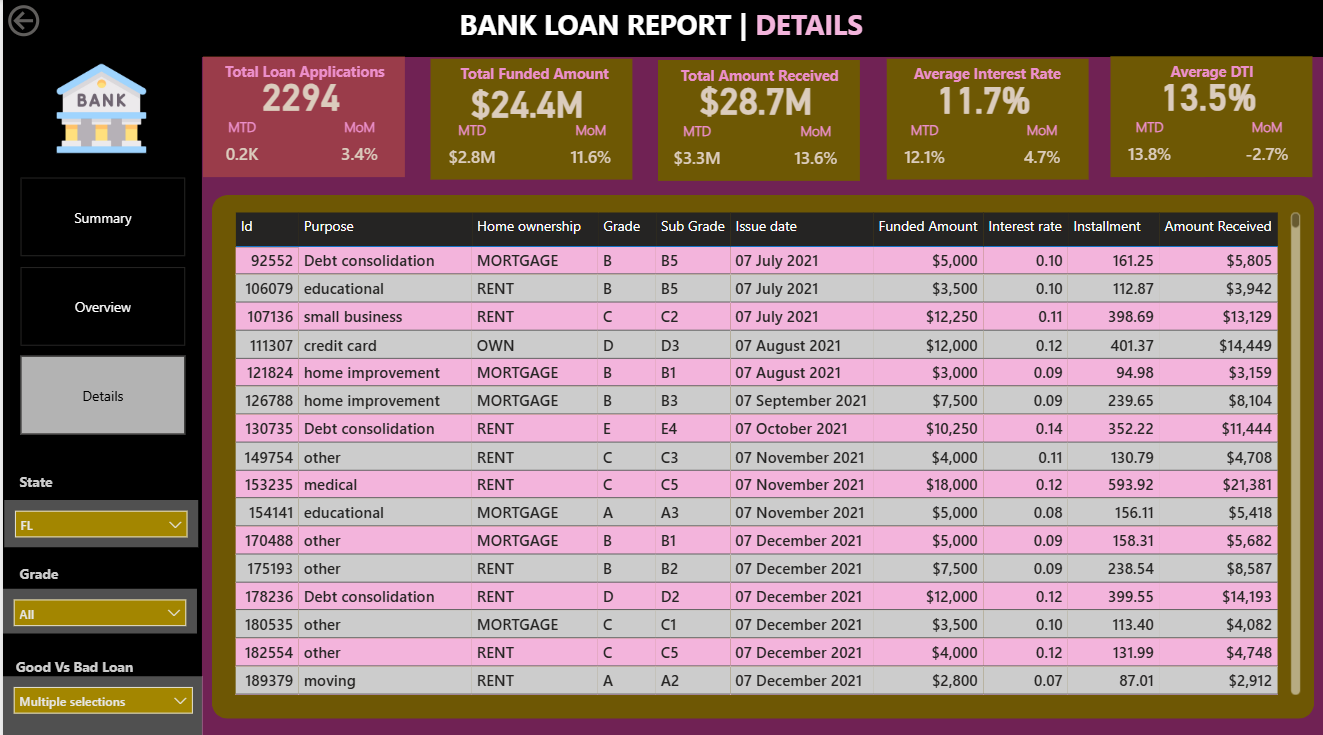

The page's visual inventory and layout, read from the dashboard file:
{"tool":"powerbi","page":{"name":"Details","canvas":[1280,720],"ordinal":2},"visuals":[{"type":"shape","box":[193.5,54.9,194.9,116.6],"z":0,"group":"g1"},{"type":"shape","box":[1069,54.9,194.9,116.6],"z":0,"group":"g5"},{"type":"shape","box":[412.5,56.3,194.9,116.6],"z":0,"group":"g2"},{"type":"shape","box":[852.9,56.3,194.9,116.6],"z":0,"group":"g3"},{"type":"shape","box":[632.6,57.8,194.9,116.6],"z":0,"group":"g4"},{"type":"shape","box":[201.5,188.2,1064.1,505.5],"z":0},{"type":"shape","box":[0,0,1280.3,55],"z":1000},{"type":"card","fields":{"Values":["bank_loan_data.Total Loan Applications"]},"box":[193.5,54.9,189.4,74.1],"z":1000,"group":"g1"},{"type":"card","fields":{"Values":["bank_loan_data.Avg DTI"]},"box":[1069,54.9,189.4,74.1],"z":1000,"group":"g5"},{"type":"card","fields":{"Values":["bank_loan_data.Avg Interest Rate"]},"box":[851.5,56.3,189.4,74.1],"z":1000,"group":"g3"},{"type":"card","fields":{"Values":["bank_loan_data.Total Amount Received"]},"box":[633.2,57.6,189.4,74.1],"z":1000,"group":"g4"},{"type":"card","fields":{"Values":["bank_loan_data.Total Funded Amount"]},"box":[411,60.1,189.4,74.1],"z":1000,"group":"g2"},{"type":"shape","box":[0,54.9,192,665.5],"z":2000},{"type":"textbox","box":[193.5,54.9,196.2,34.3],"z":2000,"group":"g1"},{"type":"textbox","box":[1069,54.9,196.2,34.3],"z":2000,"group":"g5"},{"type":"textbox","box":[415.2,56.3,196.2,34.3],"z":2000,"group":"g2"},{"type":"textbox","box":[851.5,56.3,196.2,34.3],"z":2000,"group":"g3"},{"type":"textbox","box":[633.2,57.6,196.2,34.3],"z":2000,"group":"g4"},{"type":"textbox","box":[435,0,455.6,46.7],"z":3000},{"type":"card","title":"MTD","fields":{"Values":["bank_loan_data.MTD Loan Applications"]},"box":[193.5,113.9,75.5,57.6],"z":3000,"group":"g1"},{"type":"card","title":"MTD","fields":{"Values":["bank_loan_data.MTD Avg DTI"]},"box":[1069,113.9,75.5,57.6],"z":3000,"group":"g5"},{"type":"card","title":"MTD","fields":{"Values":["bank_loan_data.MTD Funded Amount"]},"box":[415.2,115.3,75.5,57.6],"z":3000,"group":"g2"},{"type":"card","title":"MTD","fields":{"Values":["bank_loan_data.MTD Avg Int Rate"]},"box":[851.5,115.3,75.5,57.6],"z":3000,"group":"g3"},{"type":"card","title":"MTD","fields":{"Values":["bank_loan_data.MTD Total Amount Received"]},"box":[633.2,116.6,75.5,57.6],"z":3000,"group":"g4"},{"type":"group","id":"g1","title":"Group 1","box":[193.5,54.9,196.2,116.6],"z":4000},{"type":"card","title":"MoM","fields":{"Values":["bank_loan_data.MoM Loan Applications"]},"box":[307.4,113.9,75.5,57.6],"z":4000,"group":"g1"},{"type":"card","title":"MoM","fields":{"Values":["bank_loan_data.MoM Avg DTI"]},"box":[1182.9,113.9,75.5,57.6],"z":4000,"group":"g5"},{"type":"card","title":"MoM","fields":{"Values":["bank_loan_data.MoM Total Funded Amount"]},"box":[529.1,115.3,75.5,57.6],"z":4000,"group":"g2"},{"type":"card","title":"MoM","fields":{"Values":["bank_loan_data.MoM Avg Int Rate"]},"box":[965.4,115.3,75.5,57.6],"z":4000,"group":"g3"},{"type":"card","title":"MoM","fields":{"Values":["bank_loan_data.MoM Total Amount Received"]},"box":[747.1,116.6,75.5,57.6],"z":4000,"group":"g4"},{"type":"group","id":"g2","title":"Group 1","box":[411,56.3,200.3,116.6],"z":5000},{"type":"group","id":"g3","title":"Group 1","box":[851.5,56.3,196.2,116.6],"z":6000},{"type":"actionButton","box":[0,0,100,40],"z":7000},{"type":"group","id":"g4","title":"Group 1","box":[632.6,57.6,197.6,116.6],"z":8000},{"type":"group","id":"g5","title":"Group 1","box":[1069,54.9,196.2,116.6],"z":9000},{"type":"slicer","fields":{"Values":["bank_loan_data.address_state"]},"box":[1.2,482.6,187,45.8],"z":10000},{"type":"slicer","fields":{"Values":["bank_loan_data.grade"]},"box":[0,568.2,187,43.4],"z":11000},{"type":"slicer","fields":{"Values":["bank_loan_data.Good vs Bad Loan"]},"box":[0,652.7,193,57.9],"z":12000},{"type":"textbox","box":[10.9,451.2,103.8,42.2],"z":13000},{"type":"textbox","box":[7.2,629.8,131.5,45.8],"z":14000},{"type":"textbox","box":[10.9,539.3,207.5,42.2],"z":15000},{"type":"tableEx","fields":{"Values":["bank_loan_data.id","bank_loan_data.purpose","bank_loan_data.home_ownership","bank_loan_data.grade","bank_loan_data.sub_grade","bank_loan_data.issue_date","bank_loan_data.Total Funded Amount","Sum(bank_loan_data.int_rate)","Sum(bank_loan_data.installment)","bank_loan_data.Total Amount Received"]},"box":[218.4,200.3,1038.7,475.3],"z":16000},{"type":"pageNavigator","box":[16.9,171.3,159.3,249.7],"z":17000},{"type":"image","box":[44.6,56.7,100.1,96.5],"z":18000}]}

Visuals, with their boxes in screenshot pixels (x1, y1, x2, y2), scaled from the page's 1280x720 canvas onto the 1323x735 screenshot:
shape: BBox(200, 56, 401, 175)
shape: BBox(1105, 56, 1306, 175)
shape: BBox(426, 57, 628, 177)
shape: BBox(882, 57, 1083, 177)
shape: BBox(654, 59, 855, 178)
shape: BBox(208, 192, 1308, 708)
shape: BBox(0, 0, 1322, 56)
card - bank_loan_data.Total Loan Applications: BBox(200, 56, 396, 132)
card - bank_loan_data.Avg DTI: BBox(1105, 56, 1301, 132)
card - bank_loan_data.Avg Interest Rate: BBox(880, 57, 1076, 133)
card - bank_loan_data.Total Amount Received: BBox(654, 59, 850, 134)
card - bank_loan_data.Total Funded Amount: BBox(425, 61, 621, 137)
shape: BBox(0, 56, 198, 734)
textbox: BBox(200, 56, 403, 91)
textbox: BBox(1105, 56, 1308, 91)
textbox: BBox(429, 57, 632, 92)
textbox: BBox(880, 57, 1083, 92)
textbox: BBox(654, 59, 857, 94)
textbox: BBox(450, 0, 921, 48)
"MTD" card: BBox(200, 116, 278, 175)
"MTD" card: BBox(1105, 116, 1183, 175)
"MTD" card: BBox(429, 118, 507, 177)
"MTD" card: BBox(880, 118, 958, 177)
"MTD" card: BBox(654, 119, 733, 178)
"Group 1" group: BBox(200, 56, 403, 175)
"MoM" card: BBox(318, 116, 396, 175)
"MoM" card: BBox(1223, 116, 1301, 175)
"MoM" card: BBox(547, 118, 625, 177)
"MoM" card: BBox(998, 118, 1076, 177)
"MoM" card: BBox(772, 119, 850, 178)
"Group 1" group: BBox(425, 57, 632, 177)
"Group 1" group: BBox(880, 57, 1083, 177)
actionButton: BBox(0, 0, 103, 41)
"Group 1" group: BBox(654, 59, 858, 178)
"Group 1" group: BBox(1105, 56, 1308, 175)
slicer - bank_loan_data.address_state: BBox(1, 493, 195, 539)
slicer - bank_loan_data.grade: BBox(0, 580, 193, 624)
slicer - bank_loan_data.Good vs Bad Loan: BBox(0, 666, 199, 725)
textbox: BBox(11, 461, 119, 504)
textbox: BBox(7, 643, 143, 690)
textbox: BBox(11, 551, 226, 594)
tableEx - bank_loan_data.id x bank_loan_data.purpose: BBox(226, 204, 1299, 690)
pageNavigator: BBox(17, 175, 182, 430)
image: BBox(46, 58, 150, 156)
